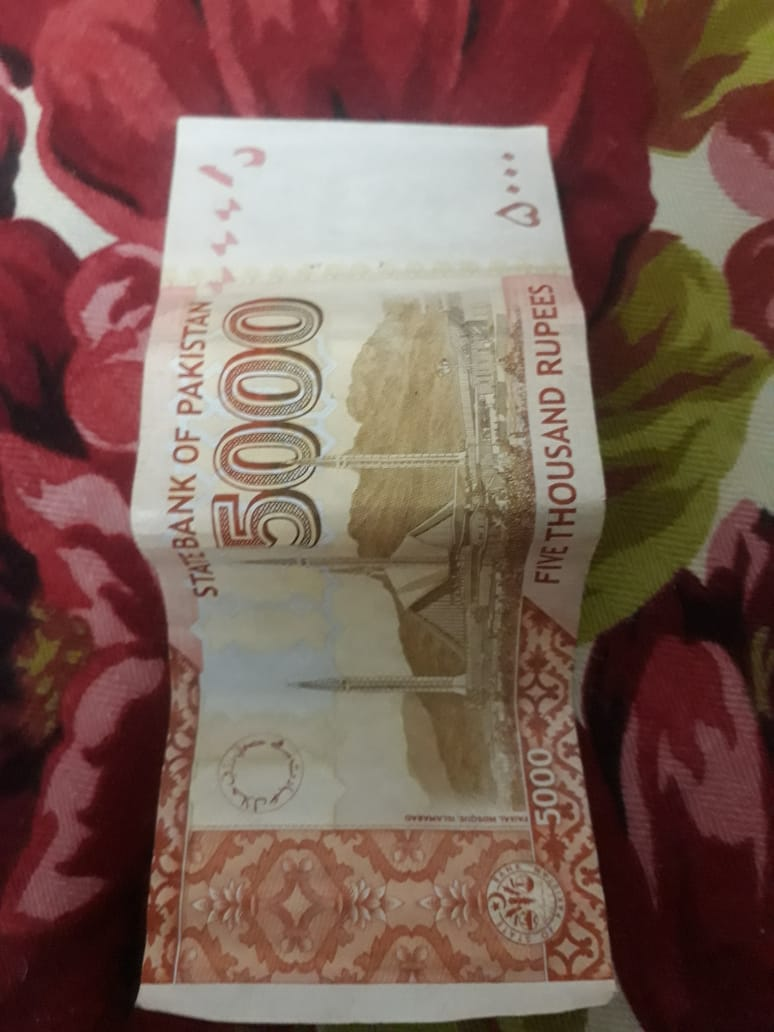5000 rupee: (113, 77, 633, 1017)
